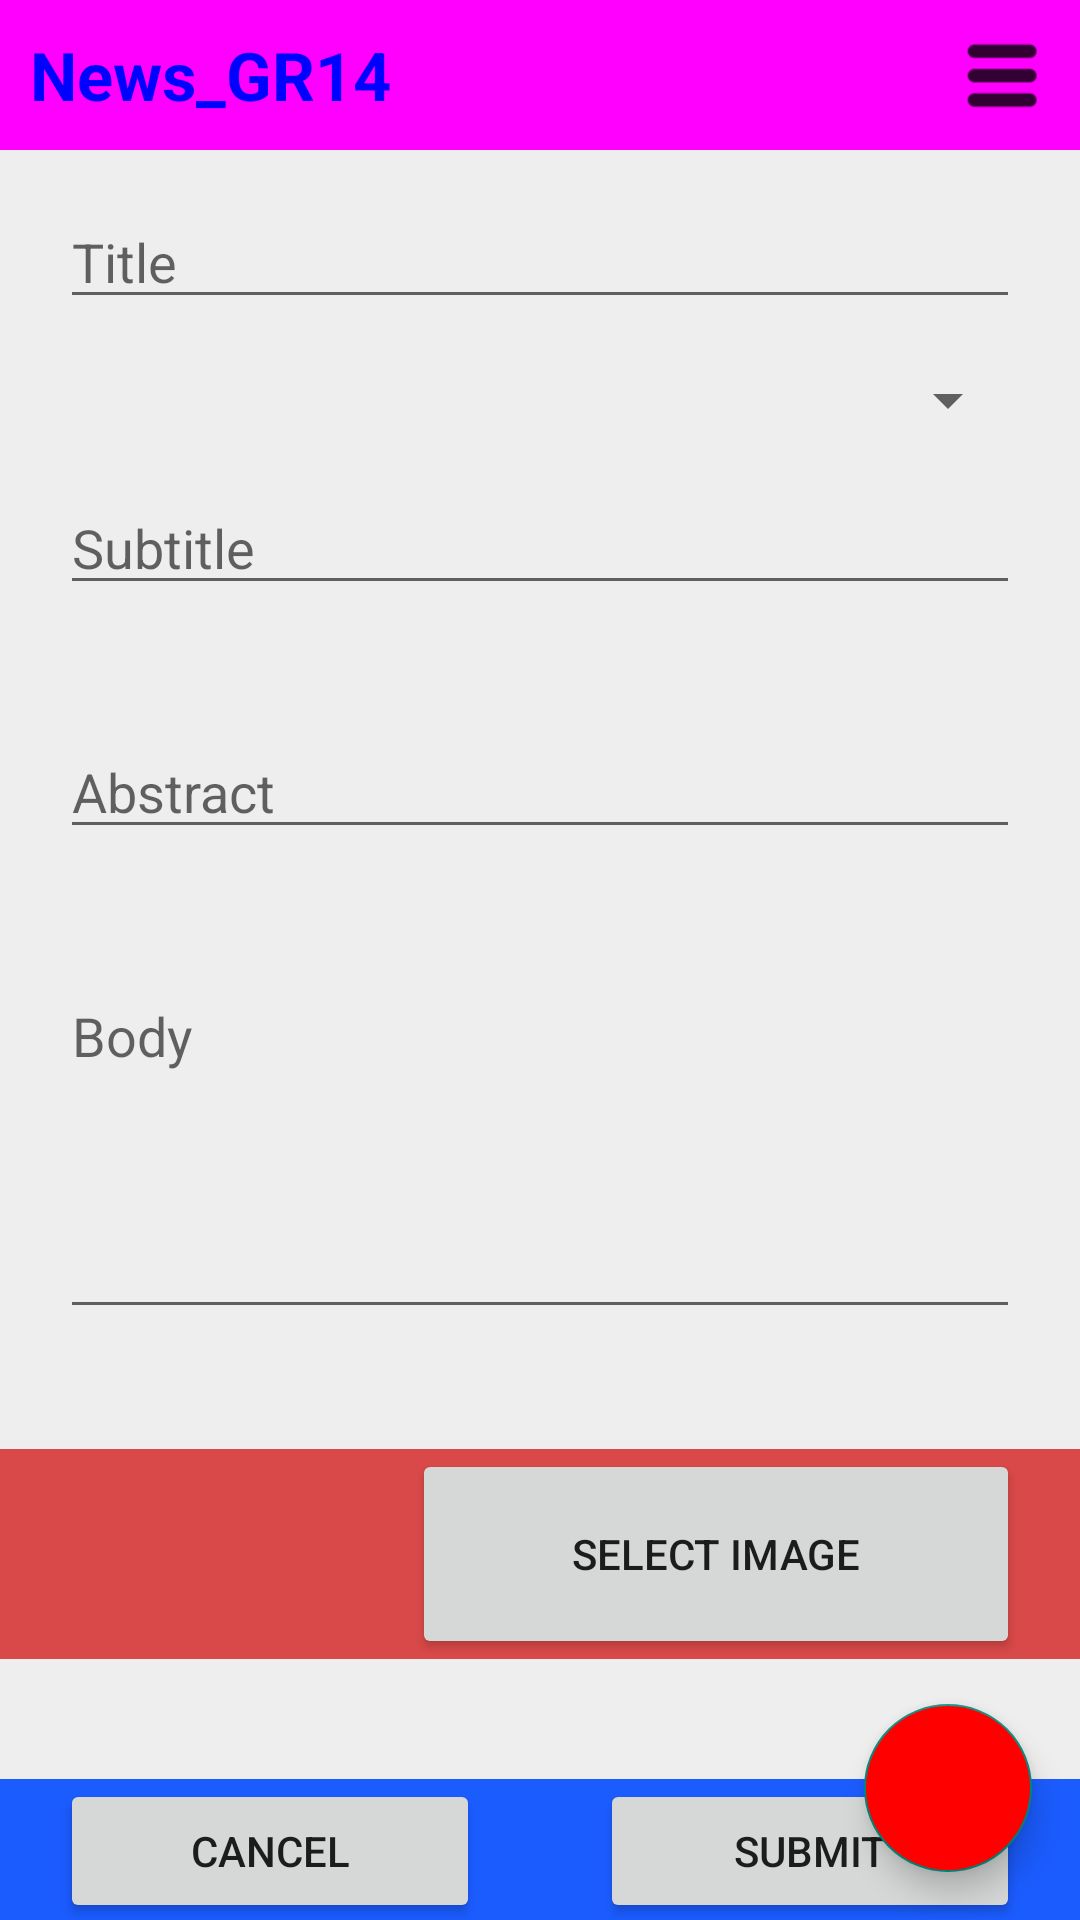

Icon bounding boxes for this 1080px×1920px phone screenshot, format (x1, y1, x2, y2):
burger: (967, 44, 1037, 108)
